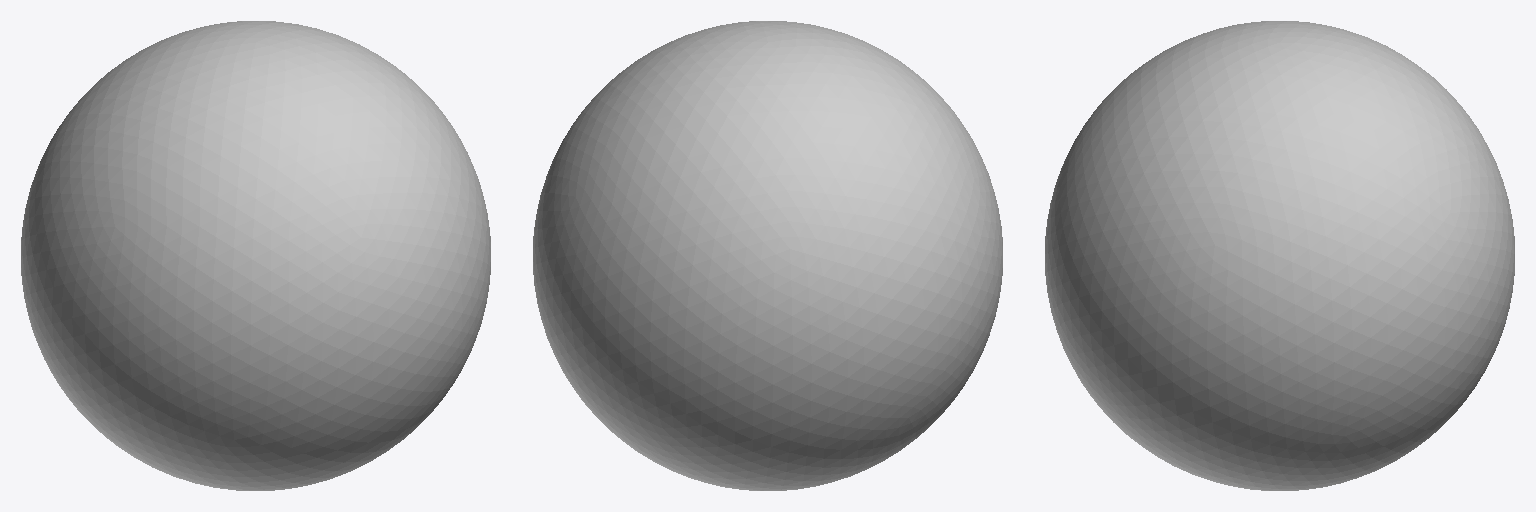
The model's file is spaceship-earth-25.obj.
3 renders of one model, left to right at view 1: azimuth 30°, elevation 25°; view 2: azimuth 150°, elevation 25°; view 3: azimuth 270°, elevation 25°, orthographic.
Parts seen in each view (by area): view 1: GD_mesh.001; view 2: GD_mesh.001; view 3: GD_mesh.001.
Part boxes in pixels (x1,y1,x2,y2): GD_mesh.001: (21, 21, 490, 490); GD_mesh.001: (533, 21, 1002, 490); GD_mesh.001: (1045, 21, 1514, 490).
Bounding box in the file's own units: 50 × 50 × 50.